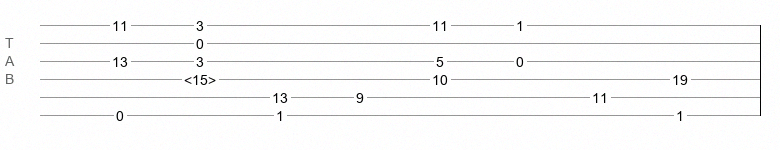0: (116, 108, 124, 118), (196, 36, 204, 46), (516, 54, 524, 64)
1: (276, 108, 284, 118), (516, 18, 524, 28), (676, 108, 684, 118)
10: (432, 72, 448, 82)
11: (112, 18, 128, 28), (432, 18, 448, 28), (592, 90, 608, 100)
13: (112, 54, 128, 64), (272, 90, 288, 100)
19: (672, 72, 688, 82)
3: (196, 54, 204, 64), (196, 18, 204, 28)
5: (436, 54, 444, 64)
9: (356, 90, 364, 100)
harmonic: (184, 72, 216, 82)
